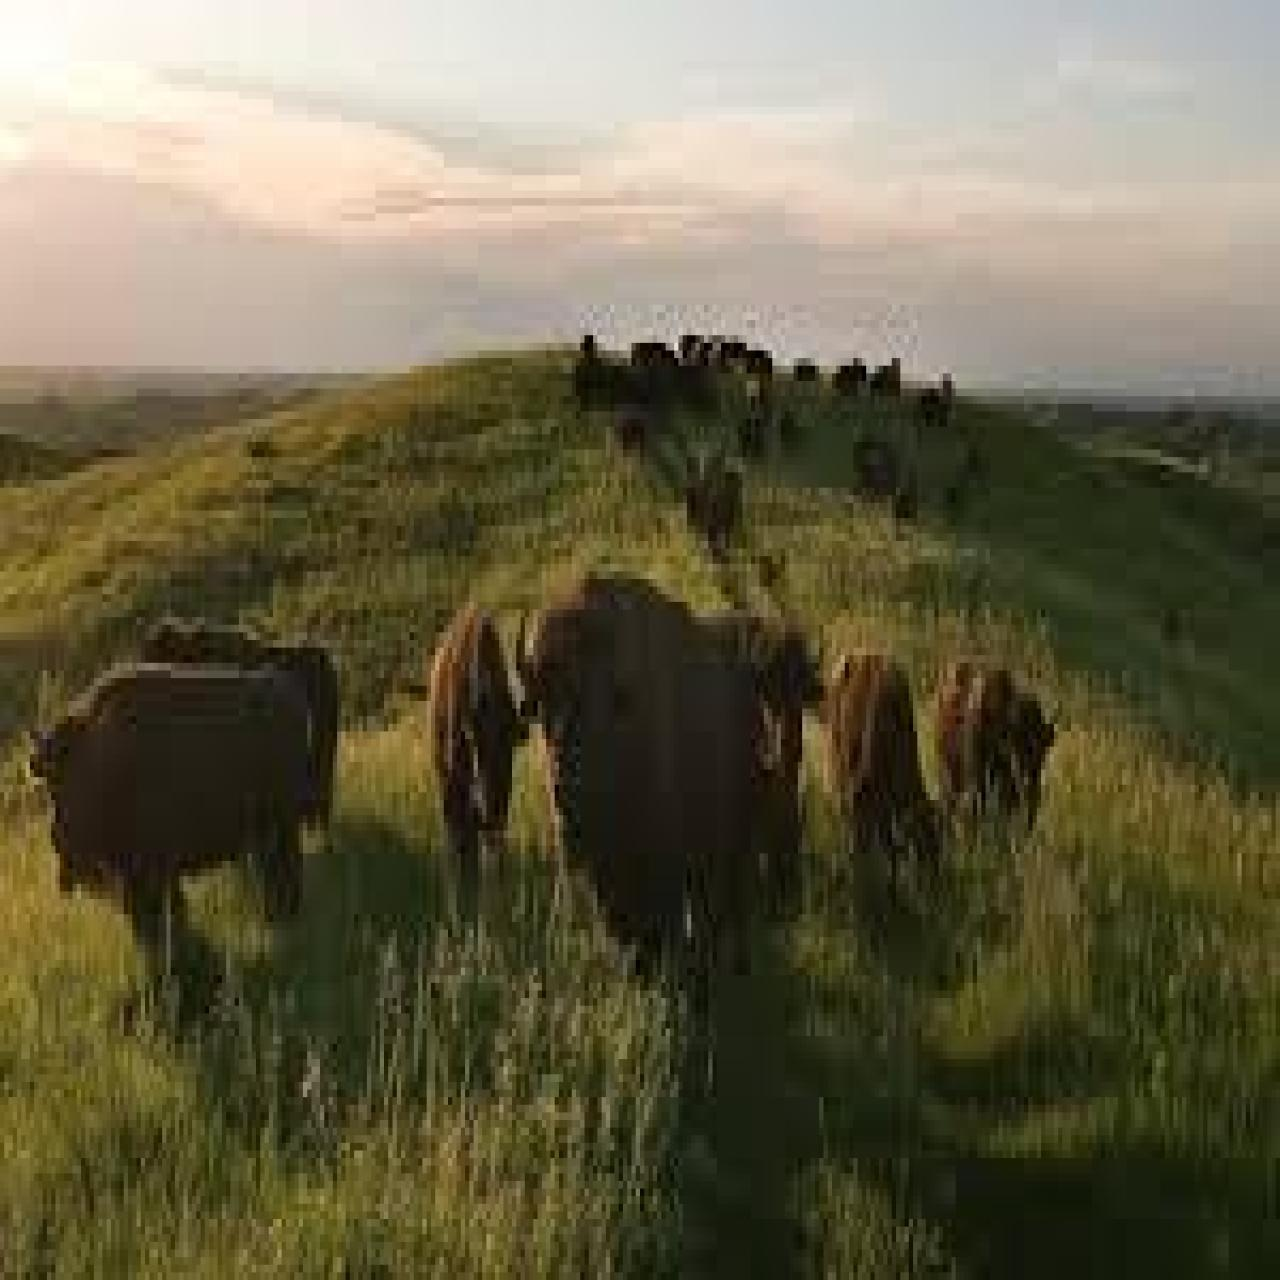cow: (510, 564, 757, 975), (32, 662, 309, 990), (130, 613, 343, 850), (424, 594, 531, 921), (727, 610, 830, 914), (926, 644, 1067, 850), (824, 640, 931, 891)
